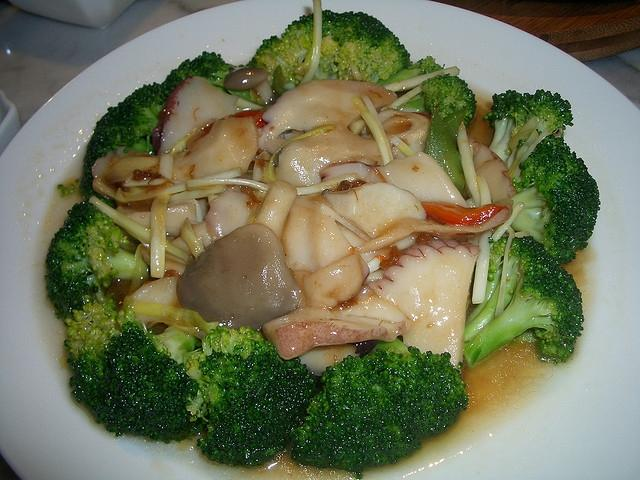broccoli: (289, 339, 469, 480), (182, 325, 318, 469), (67, 303, 203, 442), (464, 255, 584, 368), (246, 10, 412, 90), (44, 200, 149, 319), (510, 134, 601, 266), (504, 89, 574, 182), (422, 74, 476, 192), (92, 82, 174, 154), (160, 51, 254, 103), (482, 90, 522, 163)
mushroom: (176, 223, 300, 330), (170, 117, 259, 183), (322, 182, 426, 238), (375, 151, 470, 208), (170, 191, 252, 256), (292, 248, 371, 308), (224, 66, 275, 106)
